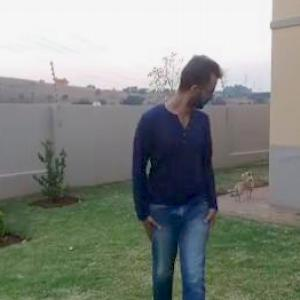follow: (134, 23, 229, 283)
